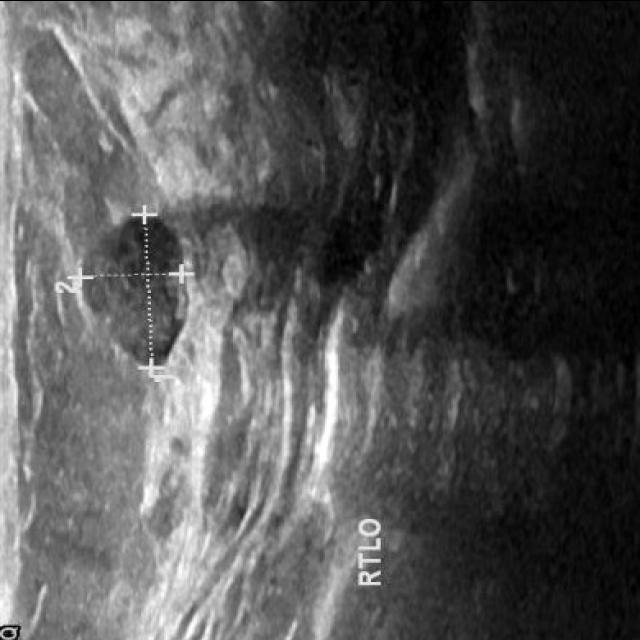Benign: (82, 210, 188, 362)
